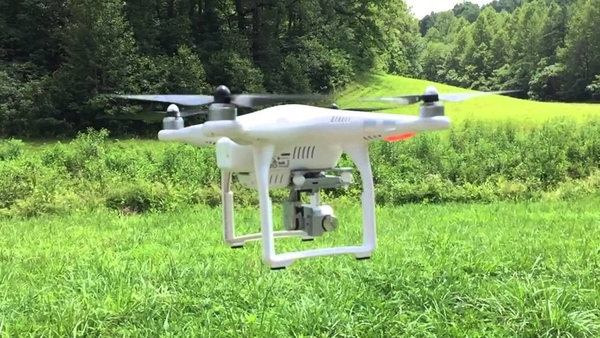drone: (128, 83, 455, 272)
